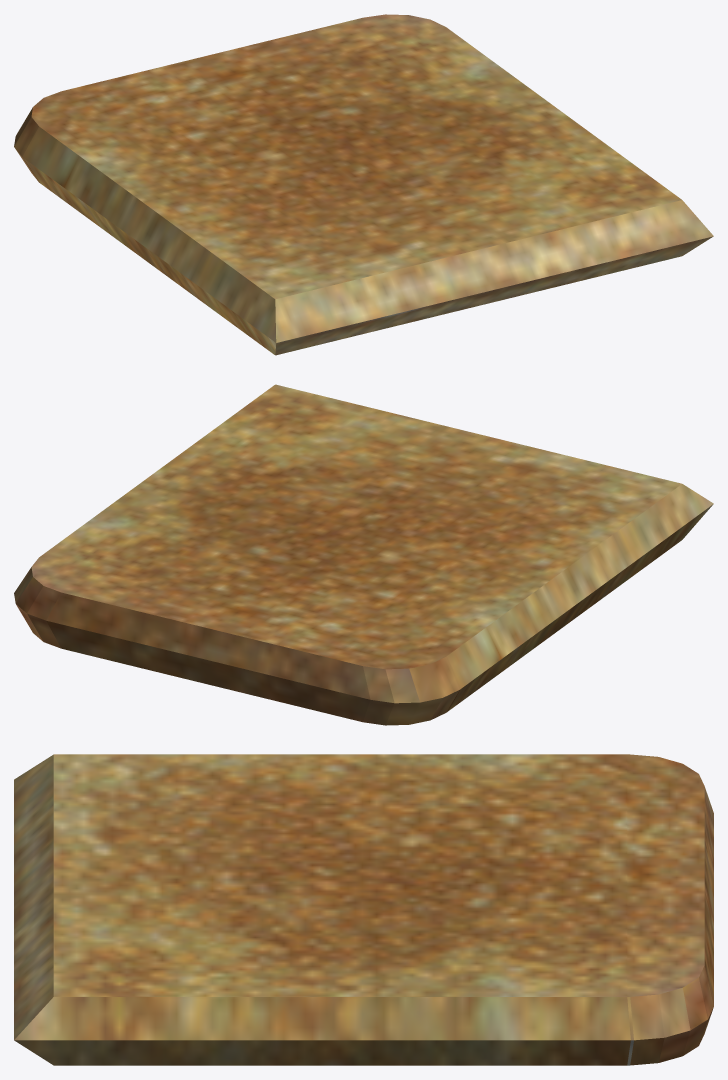
The model's file is toasted_toast.glb.
3 renders of one model, top to bottom at view 1: azimuth 30°, elevation 25°; view 2: azimuth 150°, elevation 25°; view 3: azimuth 270°, elevation 25°, orthographic. The views are drawn at different scales.
Parts seen in each view (by area): view 1: toasted toast; view 2: toasted toast; view 3: toasted toast.
Boxes of the visible parts, <box> form: toasted toast: <box>14,14,713,355</box>; toasted toast: <box>14,384,713,725</box>; toasted toast: <box>14,754,713,1065</box>.
Bounding box in the file's own units: 0.1552 × 0.019 × 0.1761.
1 material, 1 textured.
